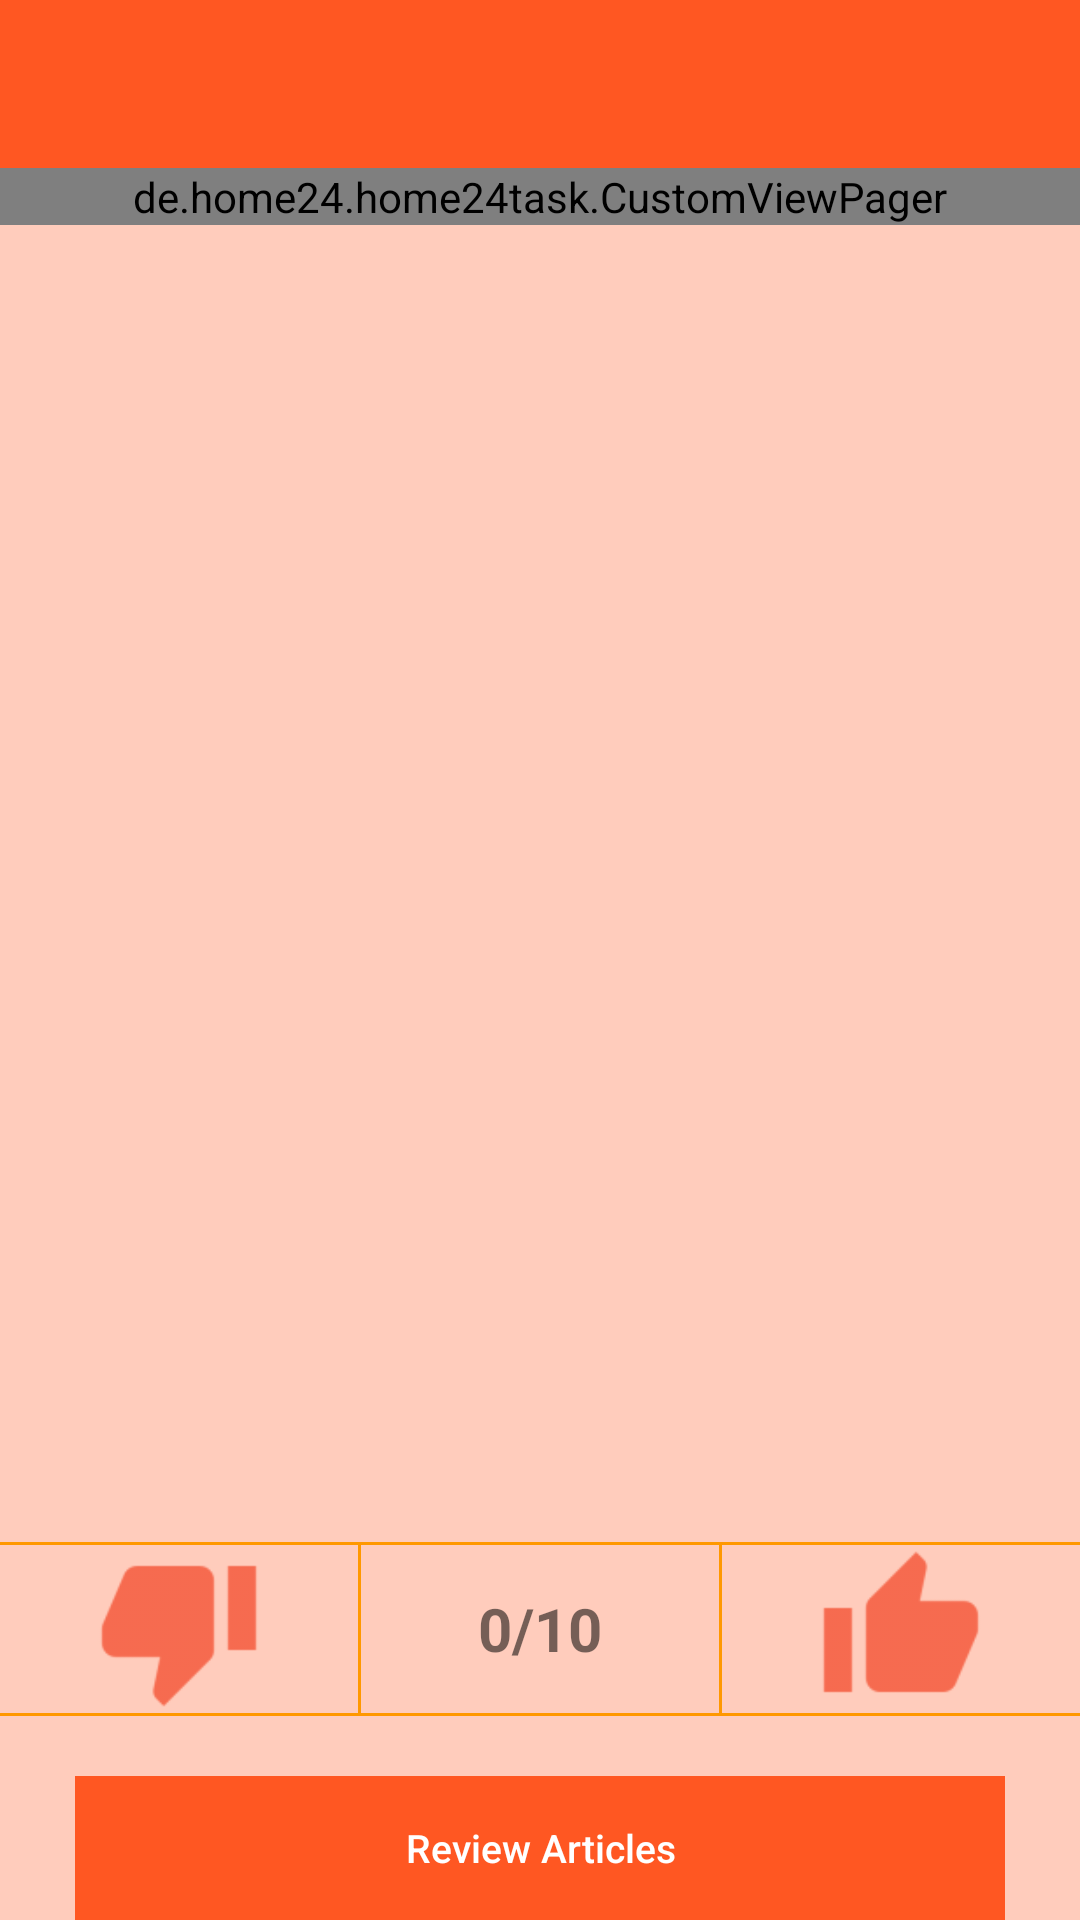

Named icons in this screenshot (1080×1920) and their centers, (x=x, y=y):
dislike: (x=179, y=1636)
like: (x=901, y=1622)
